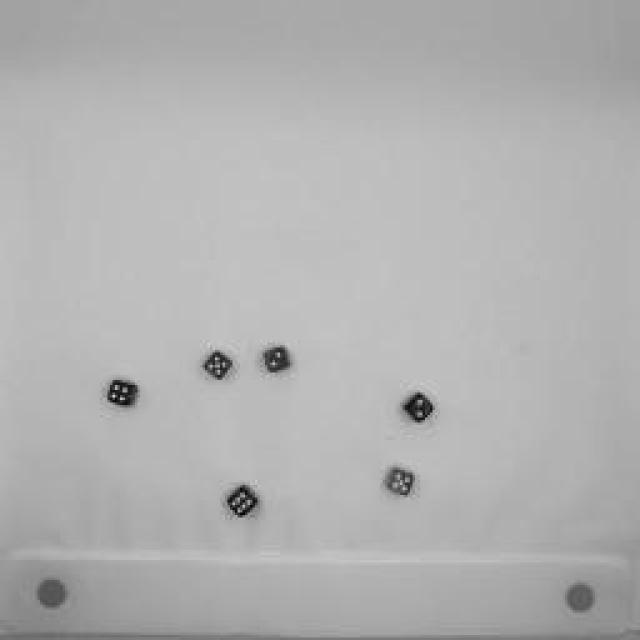dice_2: (398, 387, 440, 425), (260, 344, 295, 376)
dice_4: (101, 375, 144, 410)
dice_5: (200, 345, 238, 385), (382, 462, 420, 502)
dice_6: (221, 482, 264, 522)
